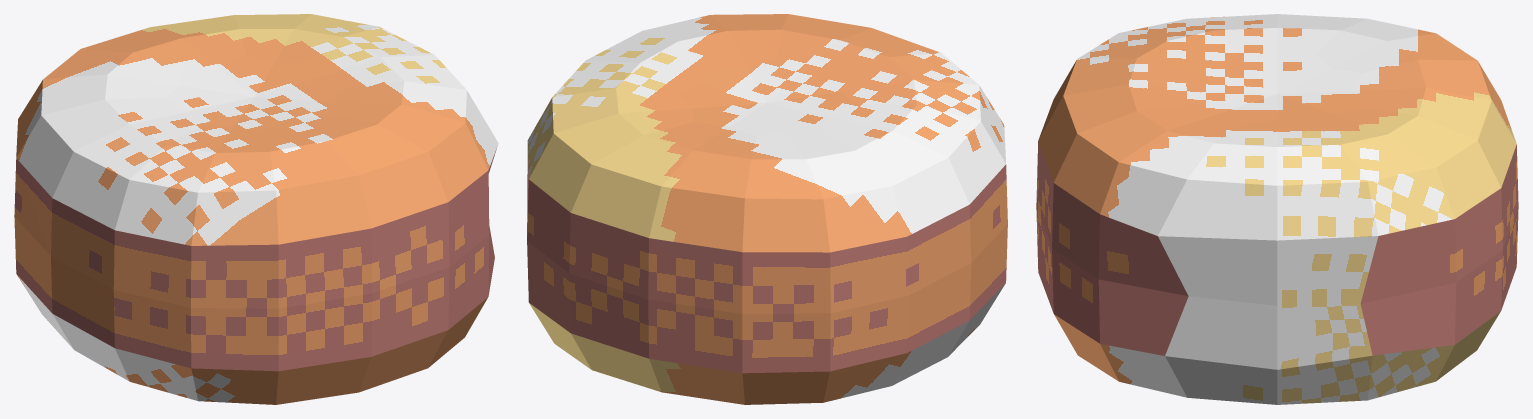
File: oofball_golden.glb
3 views of the same model, side by side, from view 1: azimuth 30°, elevation 25°; view 2: azimuth 150°, elevation 25°; view 3: azimuth 270°, elevation 25° (orthographic). The views are drawn at different scales.
Visible parts, largest first — view 1: Cube; view 2: Cube; view 3: Cube.
Boxes of the visible parts, x1,y1,x2,y2 form: Cube: [14, 14, 498, 404]; Cube: [527, 14, 1007, 404]; Cube: [1036, 14, 1518, 404].
Bounding box in the file's own units: 1.87 × 1.07 × 1.89.
1 material, 1 textured.
